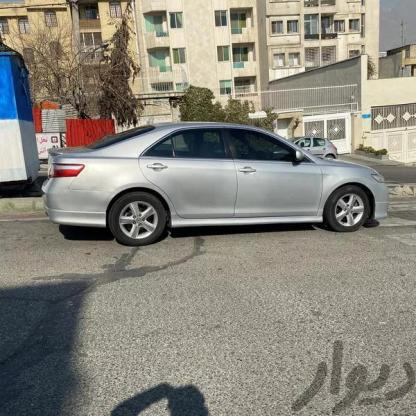Car: (42, 126, 389, 247), (290, 134, 354, 164)
